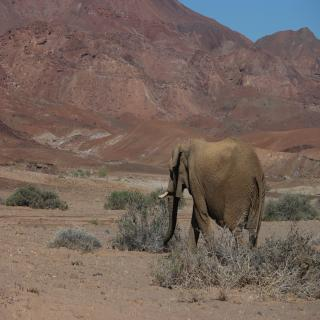Elephant: (158, 136, 267, 258)
